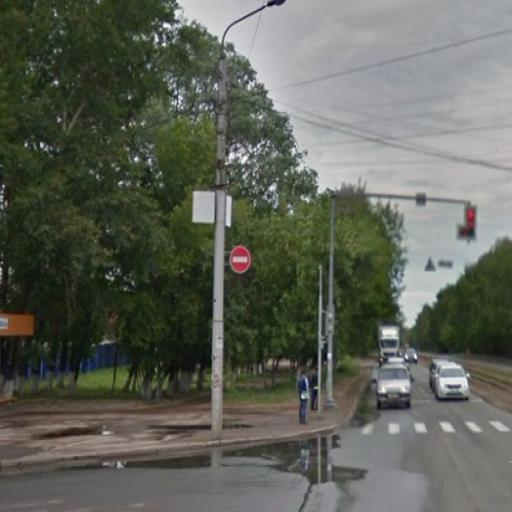traffic_sign: (230, 242, 254, 279)
